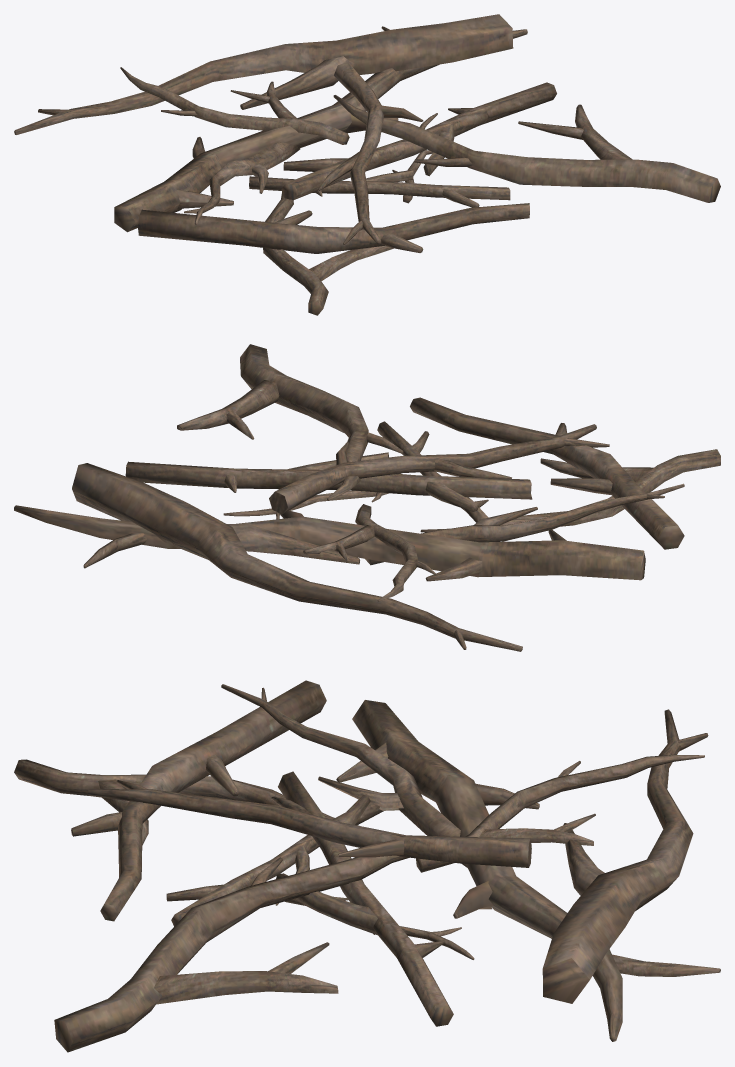
File: CollectibleBranch (3).fbx
3 views of the same model, one above another, from view 1: azimuth 30°, elevation 25°; view 2: azimuth 150°, elevation 25°; view 3: azimuth 270°, elevation 25° (orthographic). The views are drawn at different scales.
Parts seen in each view (by area): view 1: ItemBox_Branch_01; view 2: ItemBox_Branch_01; view 3: ItemBox_Branch_01.
Boxes of the visible parts, box(x1,y1,x2,y2) form: ItemBox_Branch_01: box(14, 14, 720, 315); ItemBox_Branch_01: box(14, 344, 720, 651); ItemBox_Branch_01: box(14, 680, 720, 1052).
Size of the model in its own units: 1.61 by 0.1879 by 1.45.
Materials: 1 (1 with a texture image).
